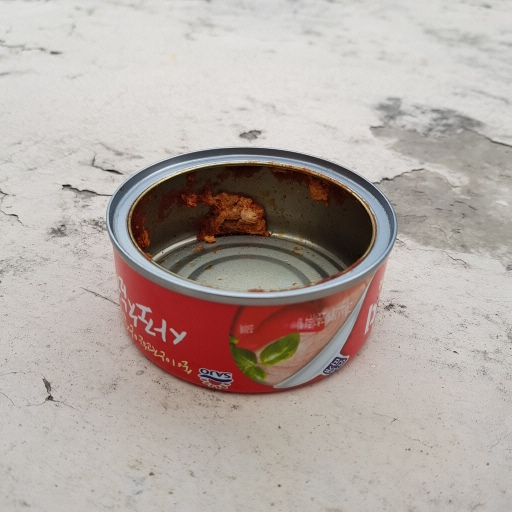Metal_1: (103, 142, 405, 397)
